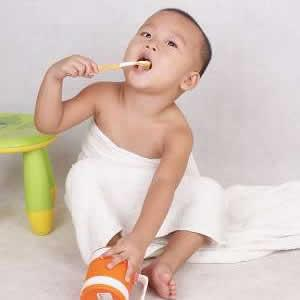person: (35, 8, 230, 300)
